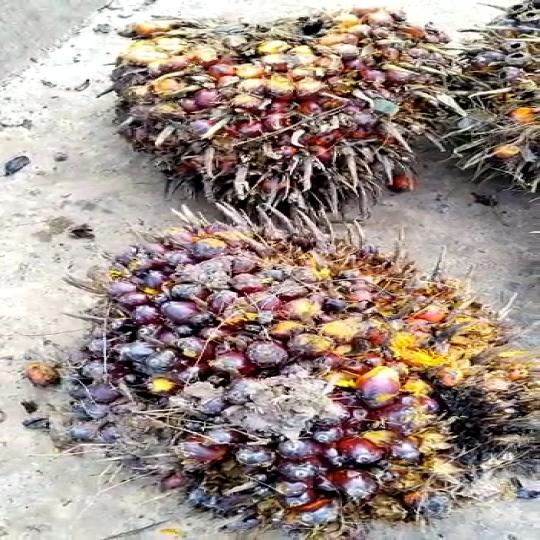masak: (46, 226, 540, 540), (93, 8, 493, 228)
